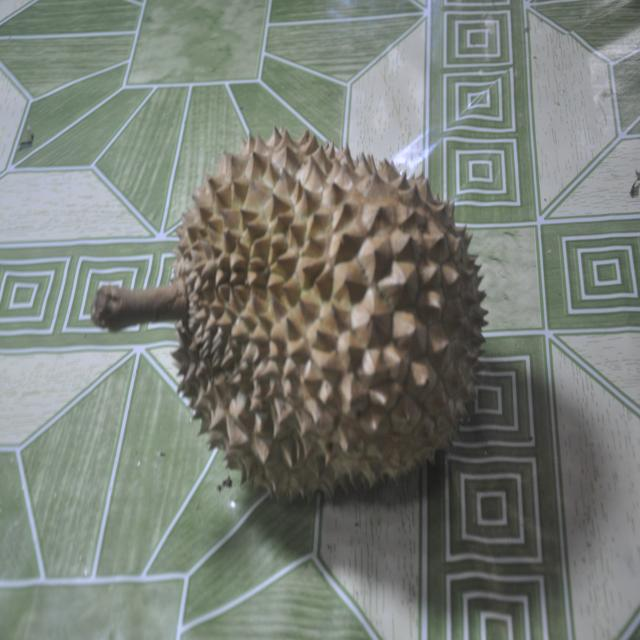mature: (91, 129, 487, 497)
